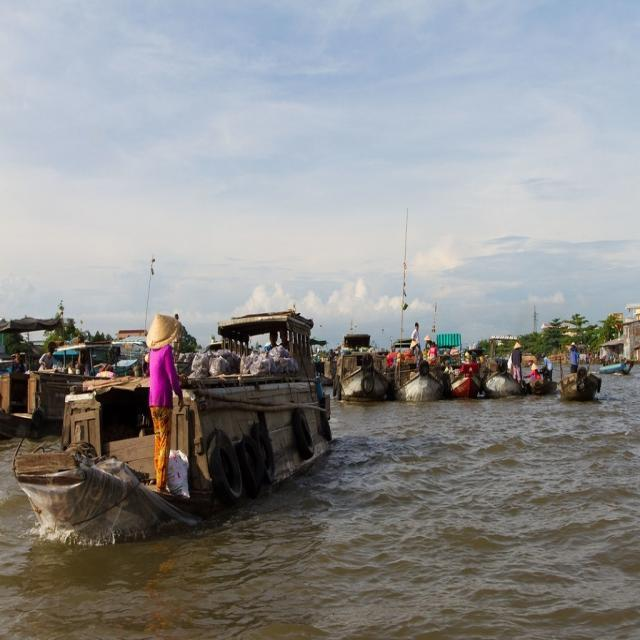boat: (17, 338, 341, 543), (334, 346, 393, 402), (550, 352, 604, 406), (395, 358, 446, 403), (481, 351, 523, 402), (448, 358, 483, 401), (594, 354, 632, 377)
